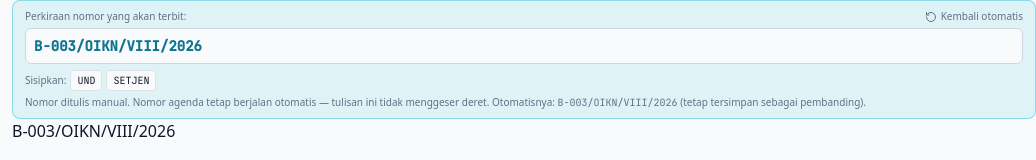
Chip unsur tulisan milik satker › menyisip di posisi kursor, bukan di ujung
Click the button with test id "pra-unsur-UND" at {"x": 86, "y": 80}, box [70,70,102,91]
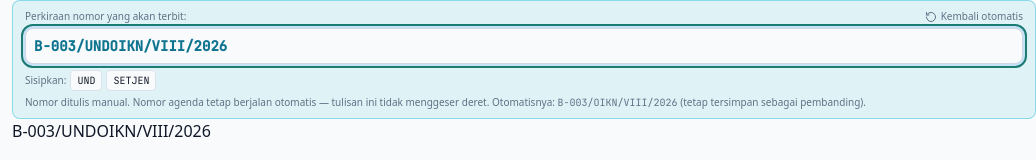
Now the text with test id "nilai" reads "B-003/UNDOIKN/VIII/2026", box [12,120,211,142]
